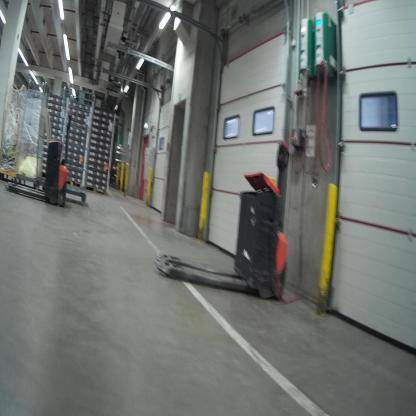pallet: (86, 182, 109, 198), (61, 173, 81, 188)
pallet_truck: (154, 133, 295, 285), (7, 99, 72, 208)
